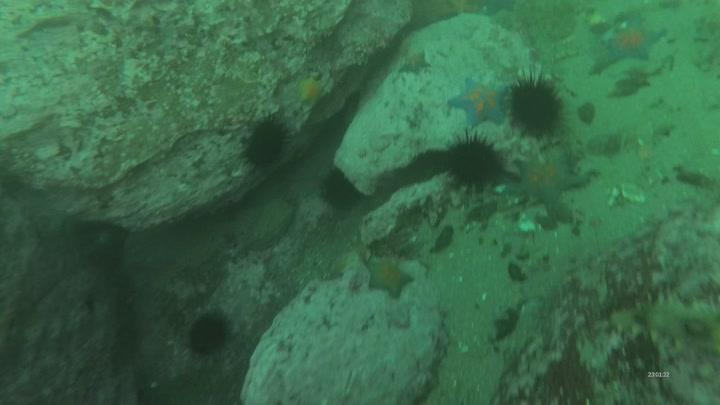urchin: (506, 67, 567, 137), (441, 128, 507, 189), (238, 113, 290, 170), (177, 314, 234, 357), (318, 166, 362, 210)
